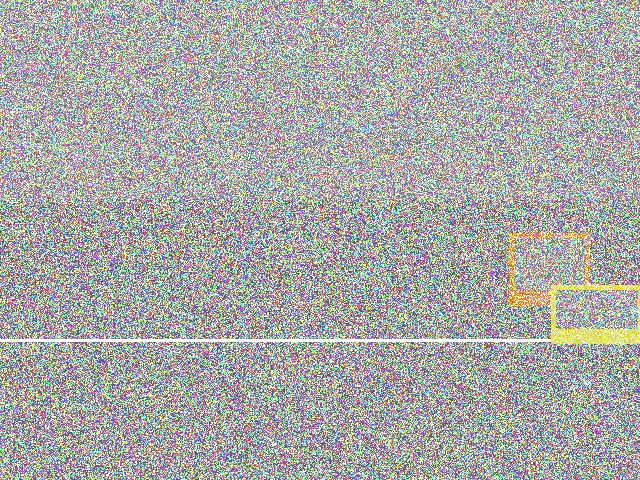truck: (391, 234, 518, 328)
